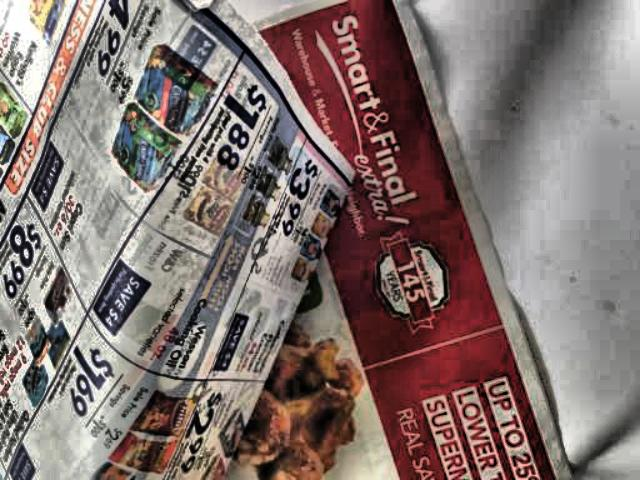Paper: (0, 0, 579, 480)
